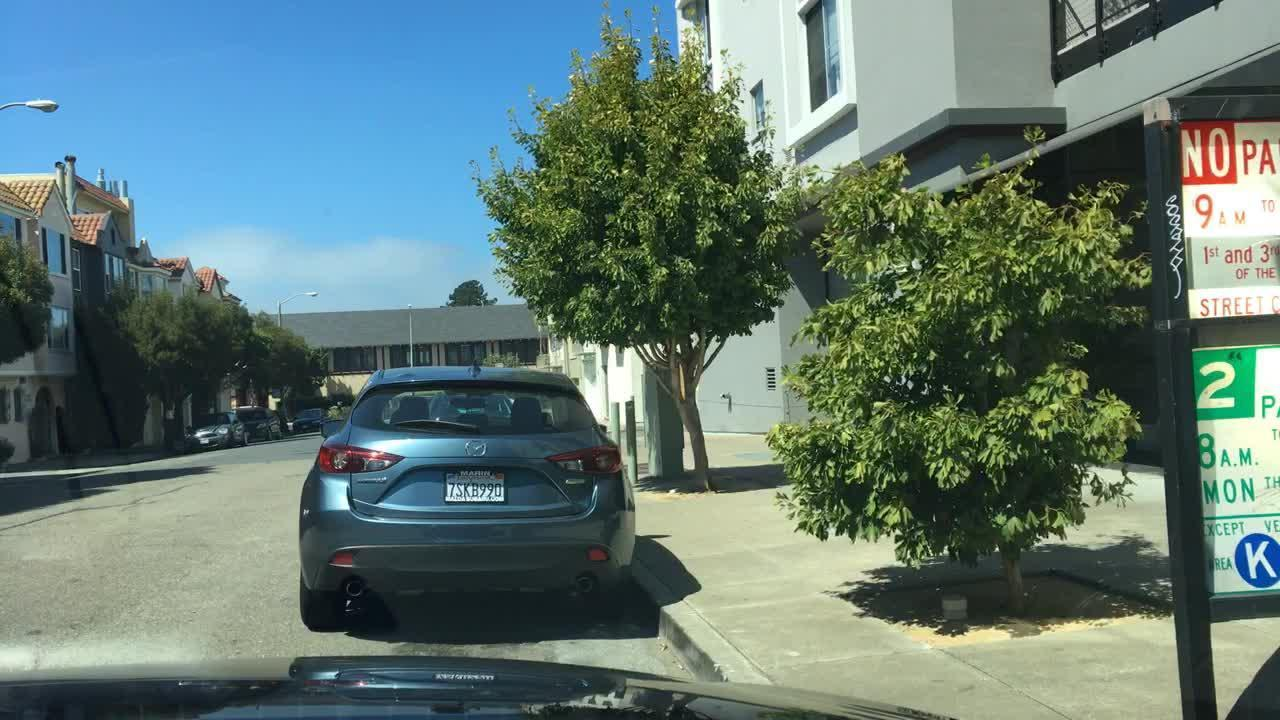Mazda: (457, 433, 491, 463)
